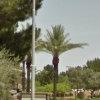Palm tree: (42, 22, 74, 87)
